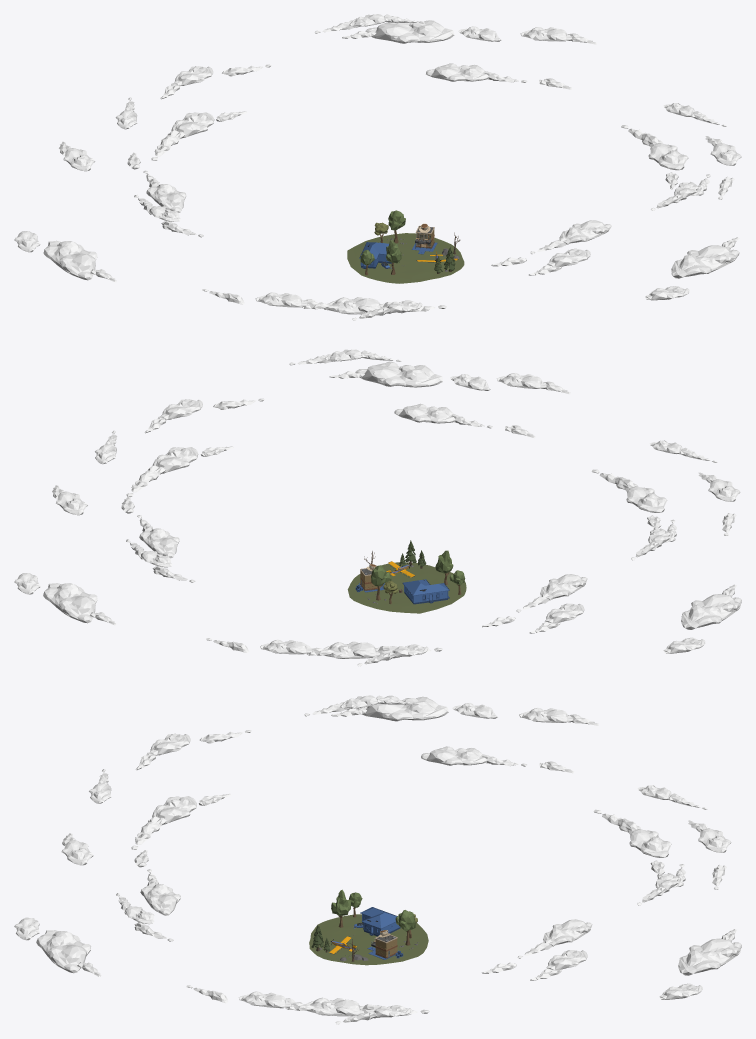
The model's file is SyntyStarterFreebie.glb.
3 renders of one model, top to bottom at view 1: azimuth 30°, elevation 25°; view 2: azimuth 150°, elevation 25°; view 3: azimuth 270°, elevation 25°, orthographic. The views are drawn at different scales.
Parts seen in each view (by area): view 1: SM_Generic_CloudRing_01.001, SM_Generic_Ground_03.001; view 2: SM_Generic_CloudRing_01.001, SM_Generic_Ground_03.001, SM_PolygonApocalypse_Bld_House_01.001; view 3: SM_Generic_CloudRing_01.001, SM_Generic_Ground_03.001, SM_PolygonApocalypse_Bld_House_01.001.
Boxes of the visible parts, x1,y1,x2,y2 form: SM_Generic_CloudRing_01.001: (14, 14, 741, 320); SM_Generic_Ground_03.001: (347, 233, 464, 283); SM_Generic_CloudRing_01.001: (14, 349, 741, 666); SM_Generic_Ground_03.001: (347, 562, 466, 613); SM_PolygonApocalypse_Bld_House_01.001: (402, 579, 449, 604); SM_Generic_CloudRing_01.001: (14, 695, 741, 1024); SM_Generic_Ground_03.001: (309, 914, 428, 965); SM_PolygonApocalypse_Bld_House_01.001: (360, 907, 400, 936).
Bounding box in the file's own units: 265 × 45.02 × 248.
Materials: 5 (5 with a texture image).
